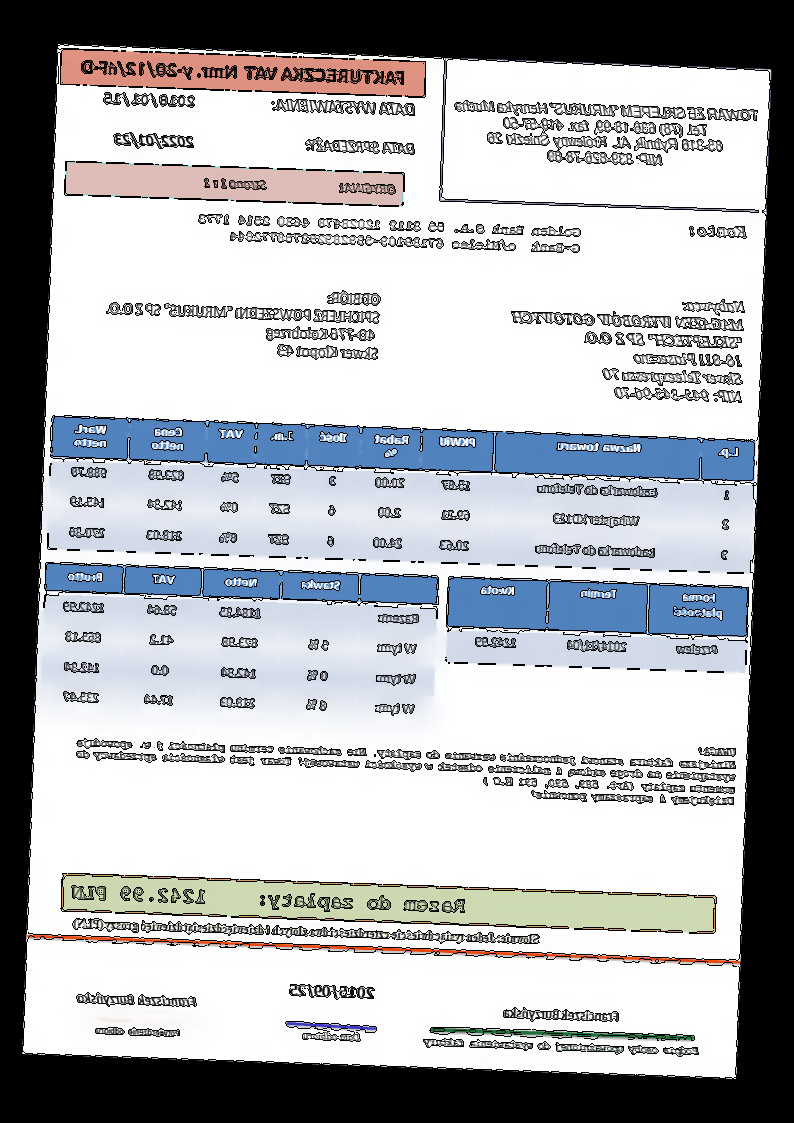Table: (47, 415, 757, 575), (39, 561, 440, 728), (446, 575, 750, 675)
TextBox: (73, 723, 739, 808), (507, 291, 747, 405), (451, 95, 761, 172), (104, 280, 382, 362), (196, 211, 582, 257), (73, 915, 541, 947), (71, 881, 468, 918), (81, 56, 409, 89), (422, 1035, 701, 1059), (202, 174, 399, 198), (269, 95, 418, 118), (303, 135, 418, 157), (76, 991, 199, 1011), (503, 1005, 622, 1025), (103, 91, 197, 111), (288, 981, 377, 1001), (111, 131, 197, 150), (94, 1024, 183, 1039), (688, 221, 749, 241), (301, 1029, 363, 1044)
